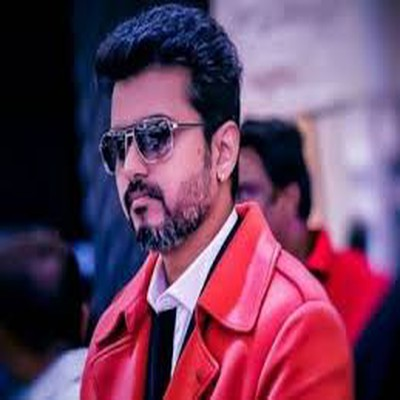eywear: (78, 89, 208, 184)
